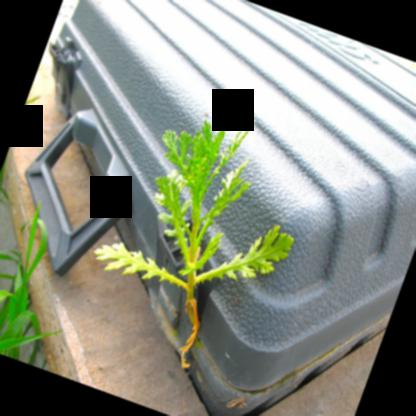suitcase: (26, 0, 416, 416)
